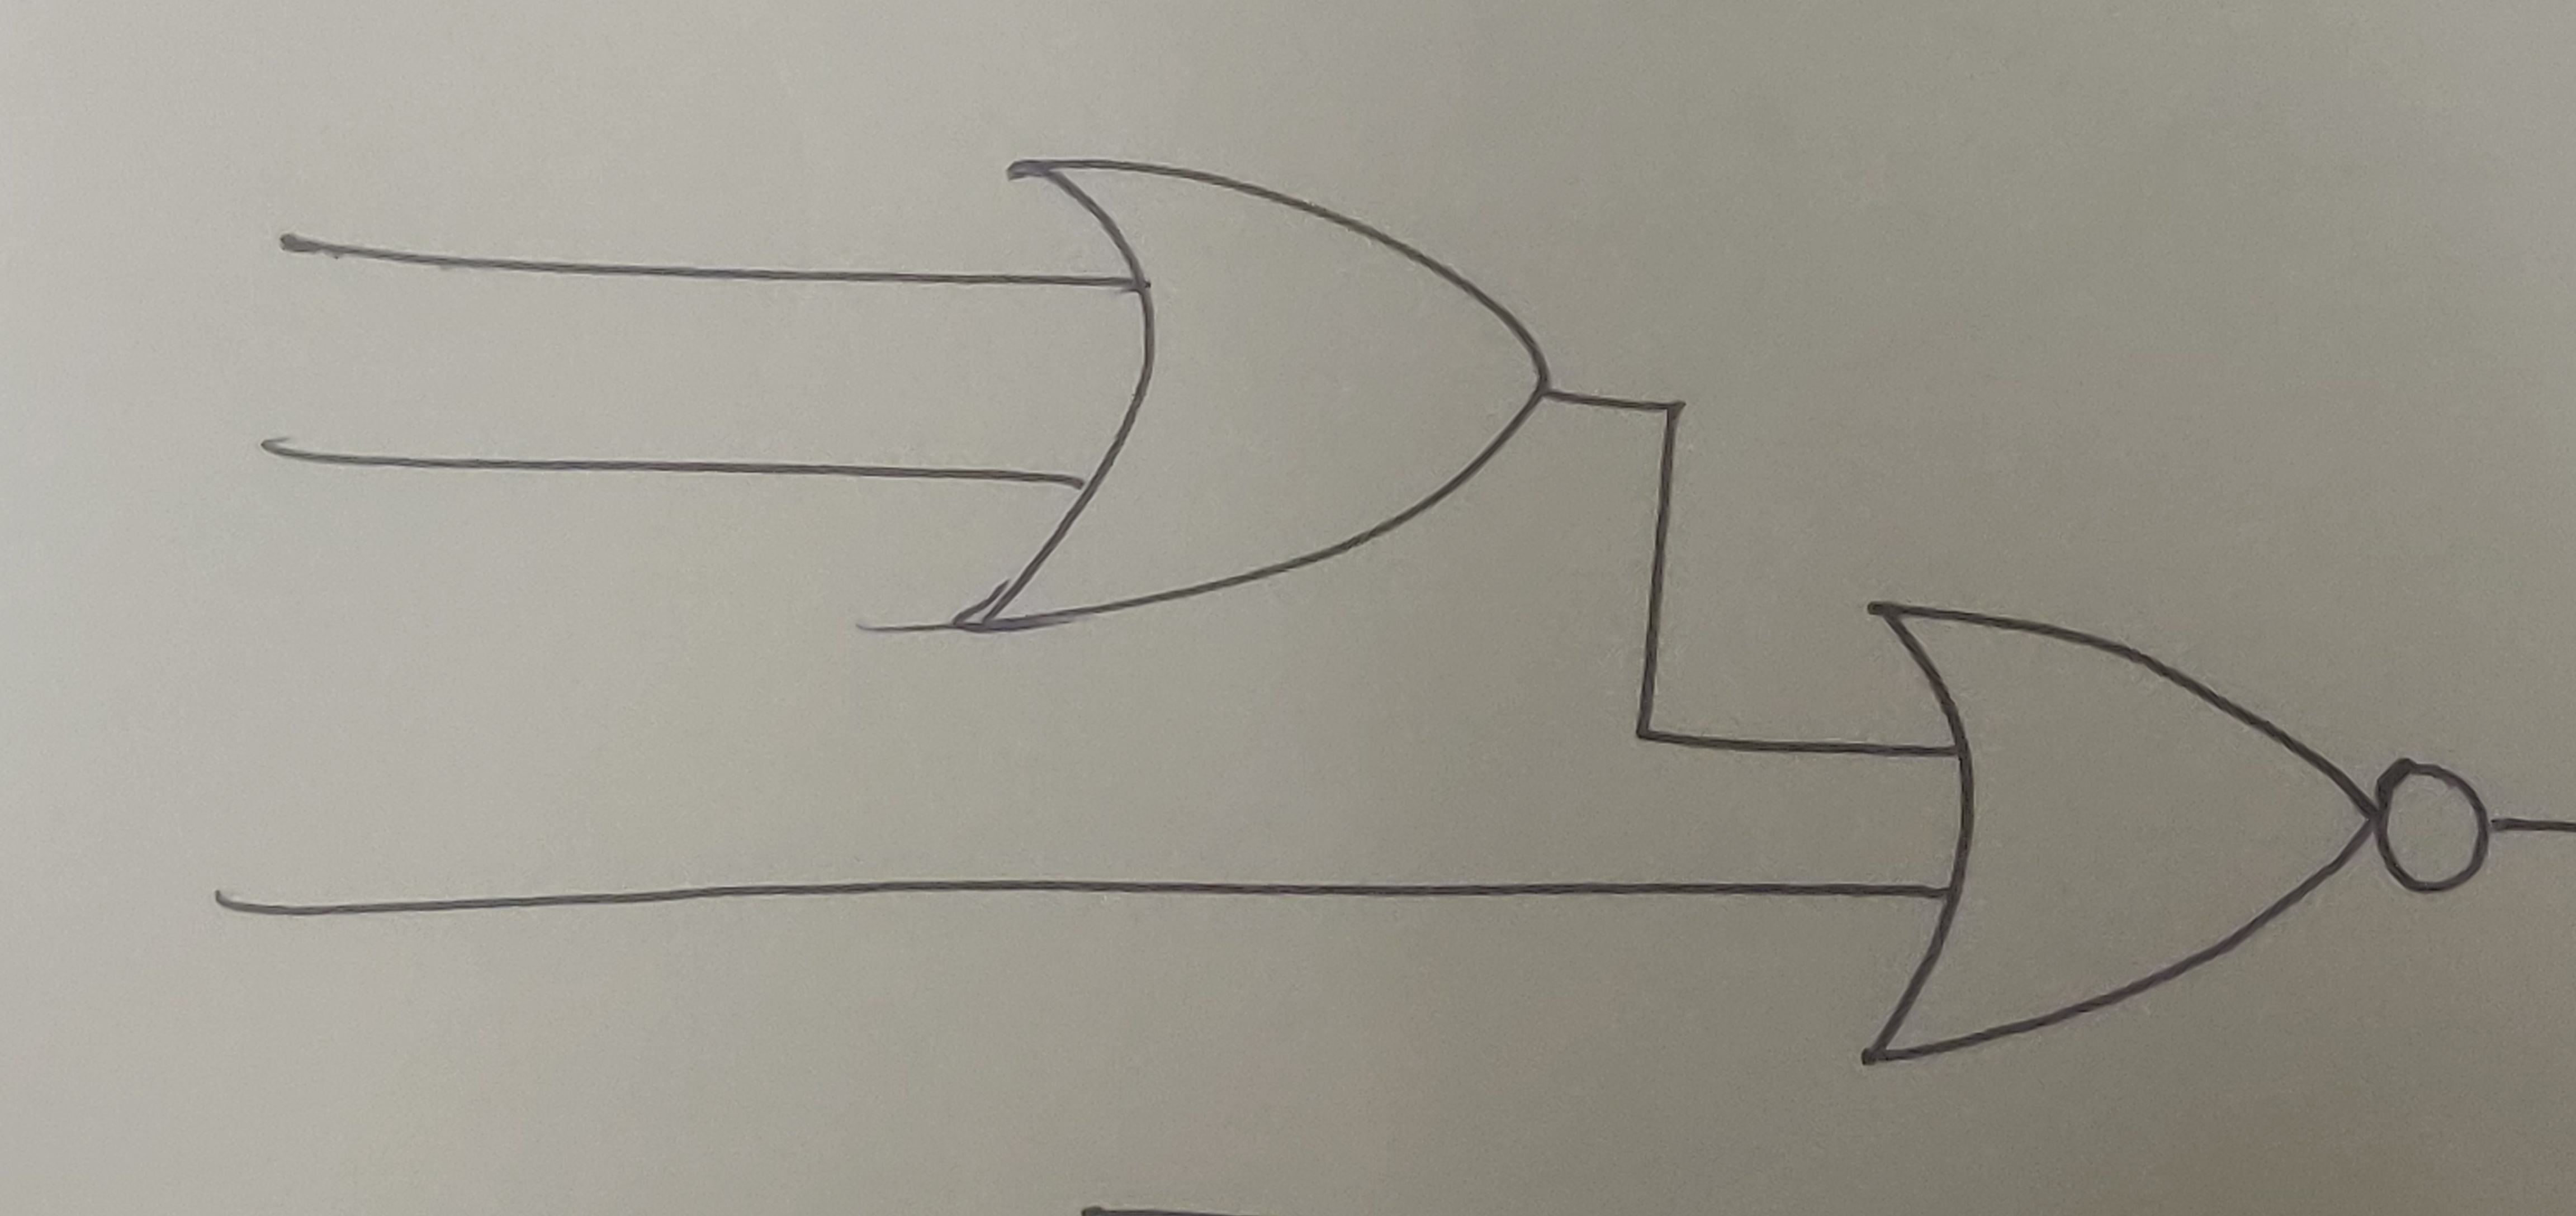not: (2379, 756, 2491, 897)
or: (976, 148, 1554, 641), (1856, 595, 2382, 1065)
